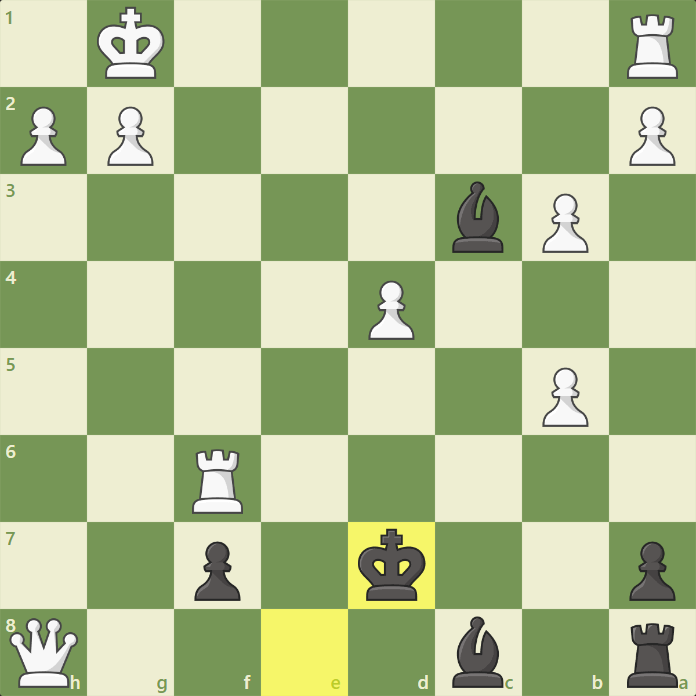K: (96, 4, 166, 82)
P: (539, 364, 590, 430), (366, 277, 417, 343), (540, 190, 591, 256), (627, 104, 678, 170), (106, 103, 157, 169), (16, 103, 67, 169)
Q: (7, 616, 81, 690)
R: (622, 12, 681, 81), (190, 446, 245, 517)
b: (446, 180, 506, 257), (448, 614, 507, 691)
k: (356, 527, 429, 604)
p: (627, 540, 679, 604), (192, 539, 243, 604)
r: (624, 620, 682, 691)
